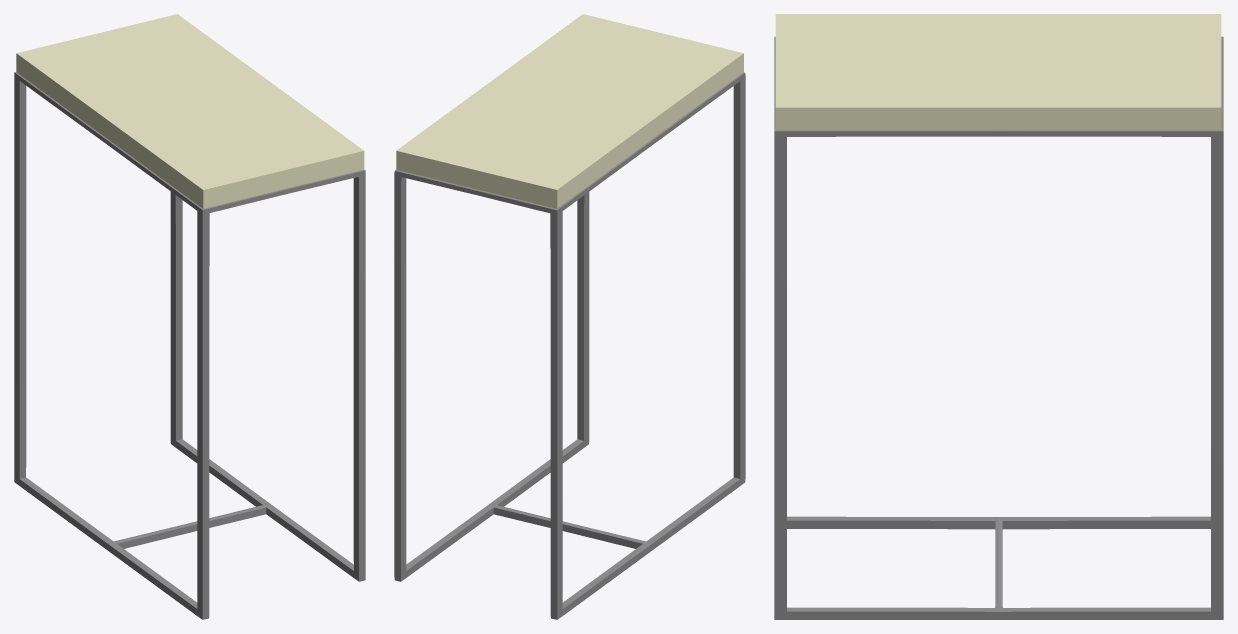
The model's file is TeaTable02B.FBX.
The picture shows the model from 3 angles, left to right: view 1: azimuth 30°, elevation 25°; view 2: azimuth 150°, elevation 25°; view 3: azimuth 270°, elevation 25°; orthographic projection. The views are drawn at different scales.
Parts seen in each view (by area): view 1: TeaTable02B; view 2: TeaTable02B; view 3: TeaTable02B.
Boxes of the visible parts, bbox=[...] form: TeaTable02B: bbox=[14, 14, 365, 619]; TeaTable02B: bbox=[394, 14, 745, 619]; TeaTable02B: bbox=[774, 14, 1223, 619].
Bounding box in the file's own units: 34.92 × 69.92 × 87.93.
